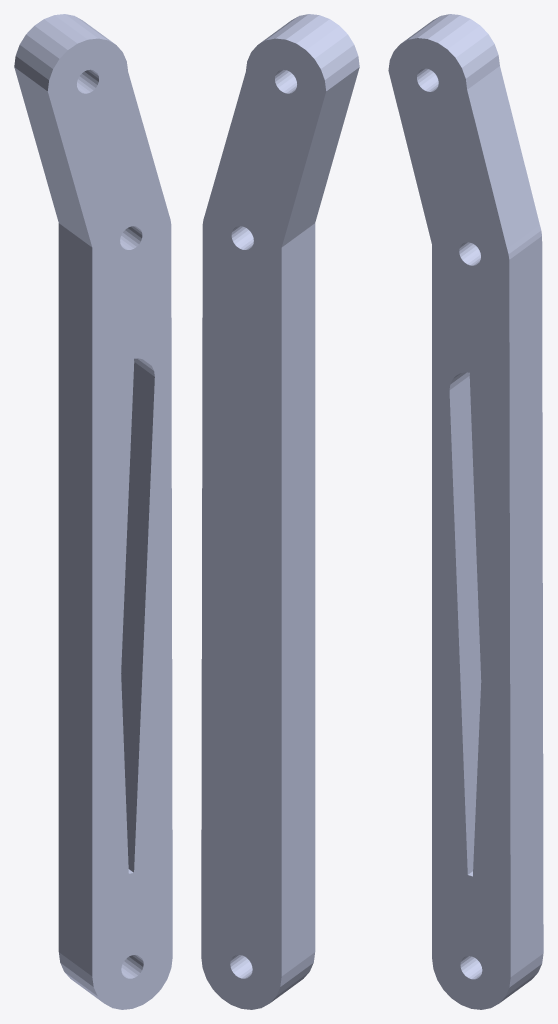
Rendered from outer_pitch_back.obj.
The picture shows the model from 3 angles, left to right: view 1: azimuth 30°, elevation 25°; view 2: azimuth 150°, elevation 25°; view 3: azimuth 330°, elevation 25°; orthographic projection. The views are drawn at different scales.
Visible parts, largest first — view 1: ActorShape0_0-Mesh; view 2: ActorShape0_0-Mesh; view 3: ActorShape0_0-Mesh.
Part boxes in pixels (bbox=[...]): ActorShape0_0-Mesh: bbox=[14, 14, 172, 1009]; ActorShape0_0-Mesh: bbox=[201, 14, 359, 1009]; ActorShape0_0-Mesh: bbox=[388, 14, 543, 1009].
Size of the model in its own units: 0.028 by 0.2096 by 0.013.
